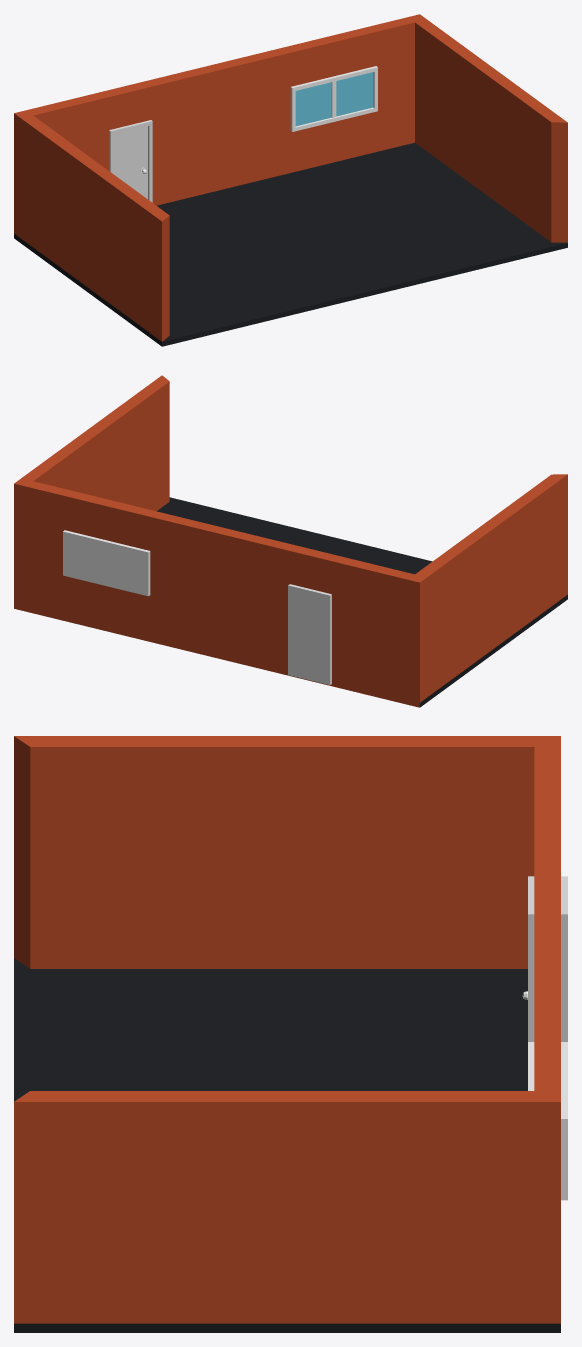
The model's file is room.glb.
3 renders of one model, top to bottom at view 1: azimuth 30°, elevation 25°; view 2: azimuth 150°, elevation 25°; view 3: azimuth 270°, elevation 25°, orthographic. The views are drawn at different scales.
Parts seen in each view (by area): view 1: Object_5, Object_3, Object_6, Object_2, Object_7, Object_4; view 2: Object_5, Object_3, Object_7, Object_4; view 3: Object_5, Object_3, Object_4, Object_7.
Boxes of the visible parts, left/top/right/bottom form: Object_5: left=14, top=14, right=567, bottom=341; Object_3: left=14, top=142, right=567, bottom=346; Object_6: left=295, top=72, right=373, bottom=126; Object_2: left=114, top=126, right=147, bottom=198; Object_7: left=140, top=66, right=377, bottom=173; Object_4: left=109, top=120, right=152, bottom=202; Object_5: left=14, top=375, right=567, bottom=707; Object_3: left=157, top=497, right=567, bottom=707; Object_7: left=63, top=530, right=150, bottom=596; Object_4: left=288, top=584, right=331, bottom=684; Object_5: left=14, top=736, right=560, bottom=1323; Object_3: left=14, top=958, right=560, bottom=1332; Object_4: left=528, top=876, right=567, bottom=1041; Object_7: left=522, top=991, right=567, bottom=1200.
Size of the model in its own units: 21.2 by 6.25 by 13.57.
